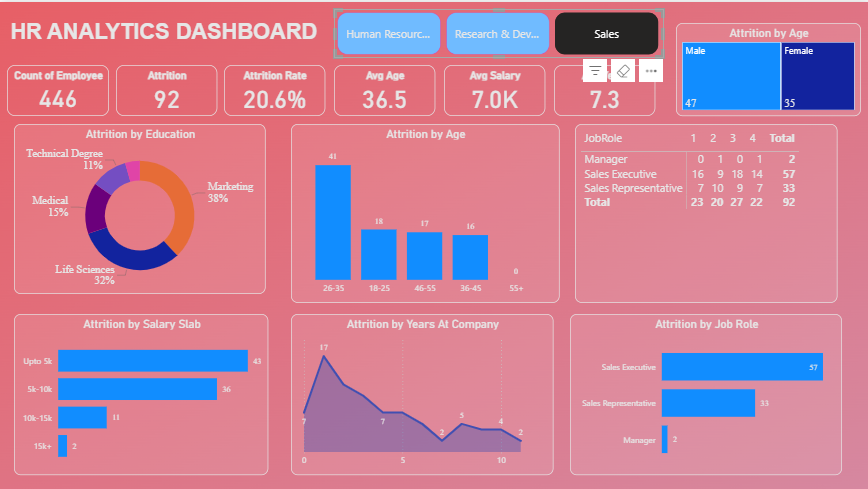

Layout of this report page (visuals, bound fields, positions):
{"tool":"powerbi","page":{"name":"Page 1","canvas":[1280,720],"ordinal":0},"visuals":[{"type":"card","title":"Count of Employee","fields":{"Values":["Count(HR_Analytics.EmpID)"]},"box":[10.1,92.5,150.4,75.2],"z":0},{"type":"card","title":"Attrition","fields":{"Values":["Sum(HR_Analytics.AttritionCount)"]},"box":[170.6,92.5,148.9,75.2],"z":1000},{"type":"card","title":"Attrition Rate","fields":{"Values":["HR_Analytics.AttitionRate"]},"box":[329.6,92.5,148.9,75.2],"z":2000},{"type":"card","title":"Avg Age","fields":{"Values":["Avg(HR_Analytics.Age)"]},"box":[491.6,92.5,148.9,75.2],"z":3000},{"type":"card","title":"Avg Salary","fields":{"Values":["Avg(HR_Analytics.MonthlyIncome)"]},"box":[653.5,92.5,148.9,75.2],"z":4000},{"type":"card","title":"Avg Years ","fields":{"Values":["Avg(HR_Analytics.YearsAtCompany)"]},"box":[814,92.5,148.9,75.2],"z":5000},{"type":"donutChart","title":"Attrition by Education","fields":{"Category":["HR_Analytics.EducationField"],"Y":["Sum(HR_Analytics.AttritionCount)"]},"box":[20.2,179.3,370.1,250.1],"z":6000},{"type":"columnChart","title":"Attrition by Age","fields":{"Y":["Sum(HR_Analytics.AttritionCount)"],"Category":["HR_Analytics.AgeGroup"]},"box":[428,179.3,394.7,263.1],"z":7000},{"type":"pivotTable","fields":{"Rows":["HR_Analytics.JobRole"],"Columns":["HR_Analytics.JobSatisfaction"],"Values":["Sum(HR_Analytics.AttritionCount)"]},"box":[845.8,179.3,386,263.1],"z":8000},{"type":"barChart","title":"Attrition by Salary Slab","fields":{"Category":["HR_Analytics.SalarySlab"],"Y":["Sum(HR_Analytics.AttritionCount)"]},"box":[20.2,458.3,374.5,237.1],"z":9000},{"type":"barChart","title":"Attrition by Job Role","fields":{"Y":["Sum(HR_Analytics.AttritionCount)"],"Category":["HR_Analytics.JobRole"]},"box":[838.6,458.3,400.5,237.1],"z":10000},{"type":"areaChart","title":"Attrition by Years At Company","fields":{"Y":["Sum(HR_Analytics.AttritionCount)"],"Category":["HR_Analytics.YearsAtCompany"]},"box":[428,458.3,386,237.1],"z":11000},{"type":"treemap","title":"Attrition by Age","fields":{"Values":["Sum(HR_Analytics.AttritionCount)"],"Group":["HR_Analytics.Gender"]},"box":[994.7,30.4,271.8,137.3],"z":12000},{"type":"advancedSlicerVisual","fields":{"Values":["HR_Analytics.Department"]},"box":[491.6,10.1,484.3,72.3],"z":13000},{"type":"textbox","box":[10.1,20.2,467,52],"z":13001}]}

Visuals, with their boxes in screenshot pixels (x1, y1, x2, y2), scaled from the page's 1280x720 canvas onto the 868x489 screenshot:
"Count of Employee" card: x1=7, y1=63, x2=109, y2=114
"Attrition" card: x1=116, y1=63, x2=217, y2=114
"Attrition Rate" card: x1=224, y1=63, x2=324, y2=114
"Avg Age" card: x1=333, y1=63, x2=434, y2=114
"Avg Salary" card: x1=443, y1=63, x2=544, y2=114
"Avg Years " card: x1=552, y1=63, x2=653, y2=114
"Attrition by Education" donutChart: x1=14, y1=122, x2=265, y2=292
"Attrition by Age" columnChart: x1=290, y1=122, x2=558, y2=300
pivotTable - HR_Analytics.JobRole x HR_Analytics.JobSatisfaction: x1=574, y1=122, x2=835, y2=300
"Attrition by Salary Slab" barChart: x1=14, y1=311, x2=268, y2=472
"Attrition by Job Role" barChart: x1=569, y1=311, x2=840, y2=472
"Attrition by Years At Company" areaChart: x1=290, y1=311, x2=552, y2=472
"Attrition by Age" treemap: x1=675, y1=21, x2=859, y2=114
advancedSlicerVisual - HR_Analytics.Department: x1=333, y1=7, x2=662, y2=56
textbox: x1=7, y1=14, x2=324, y2=49
